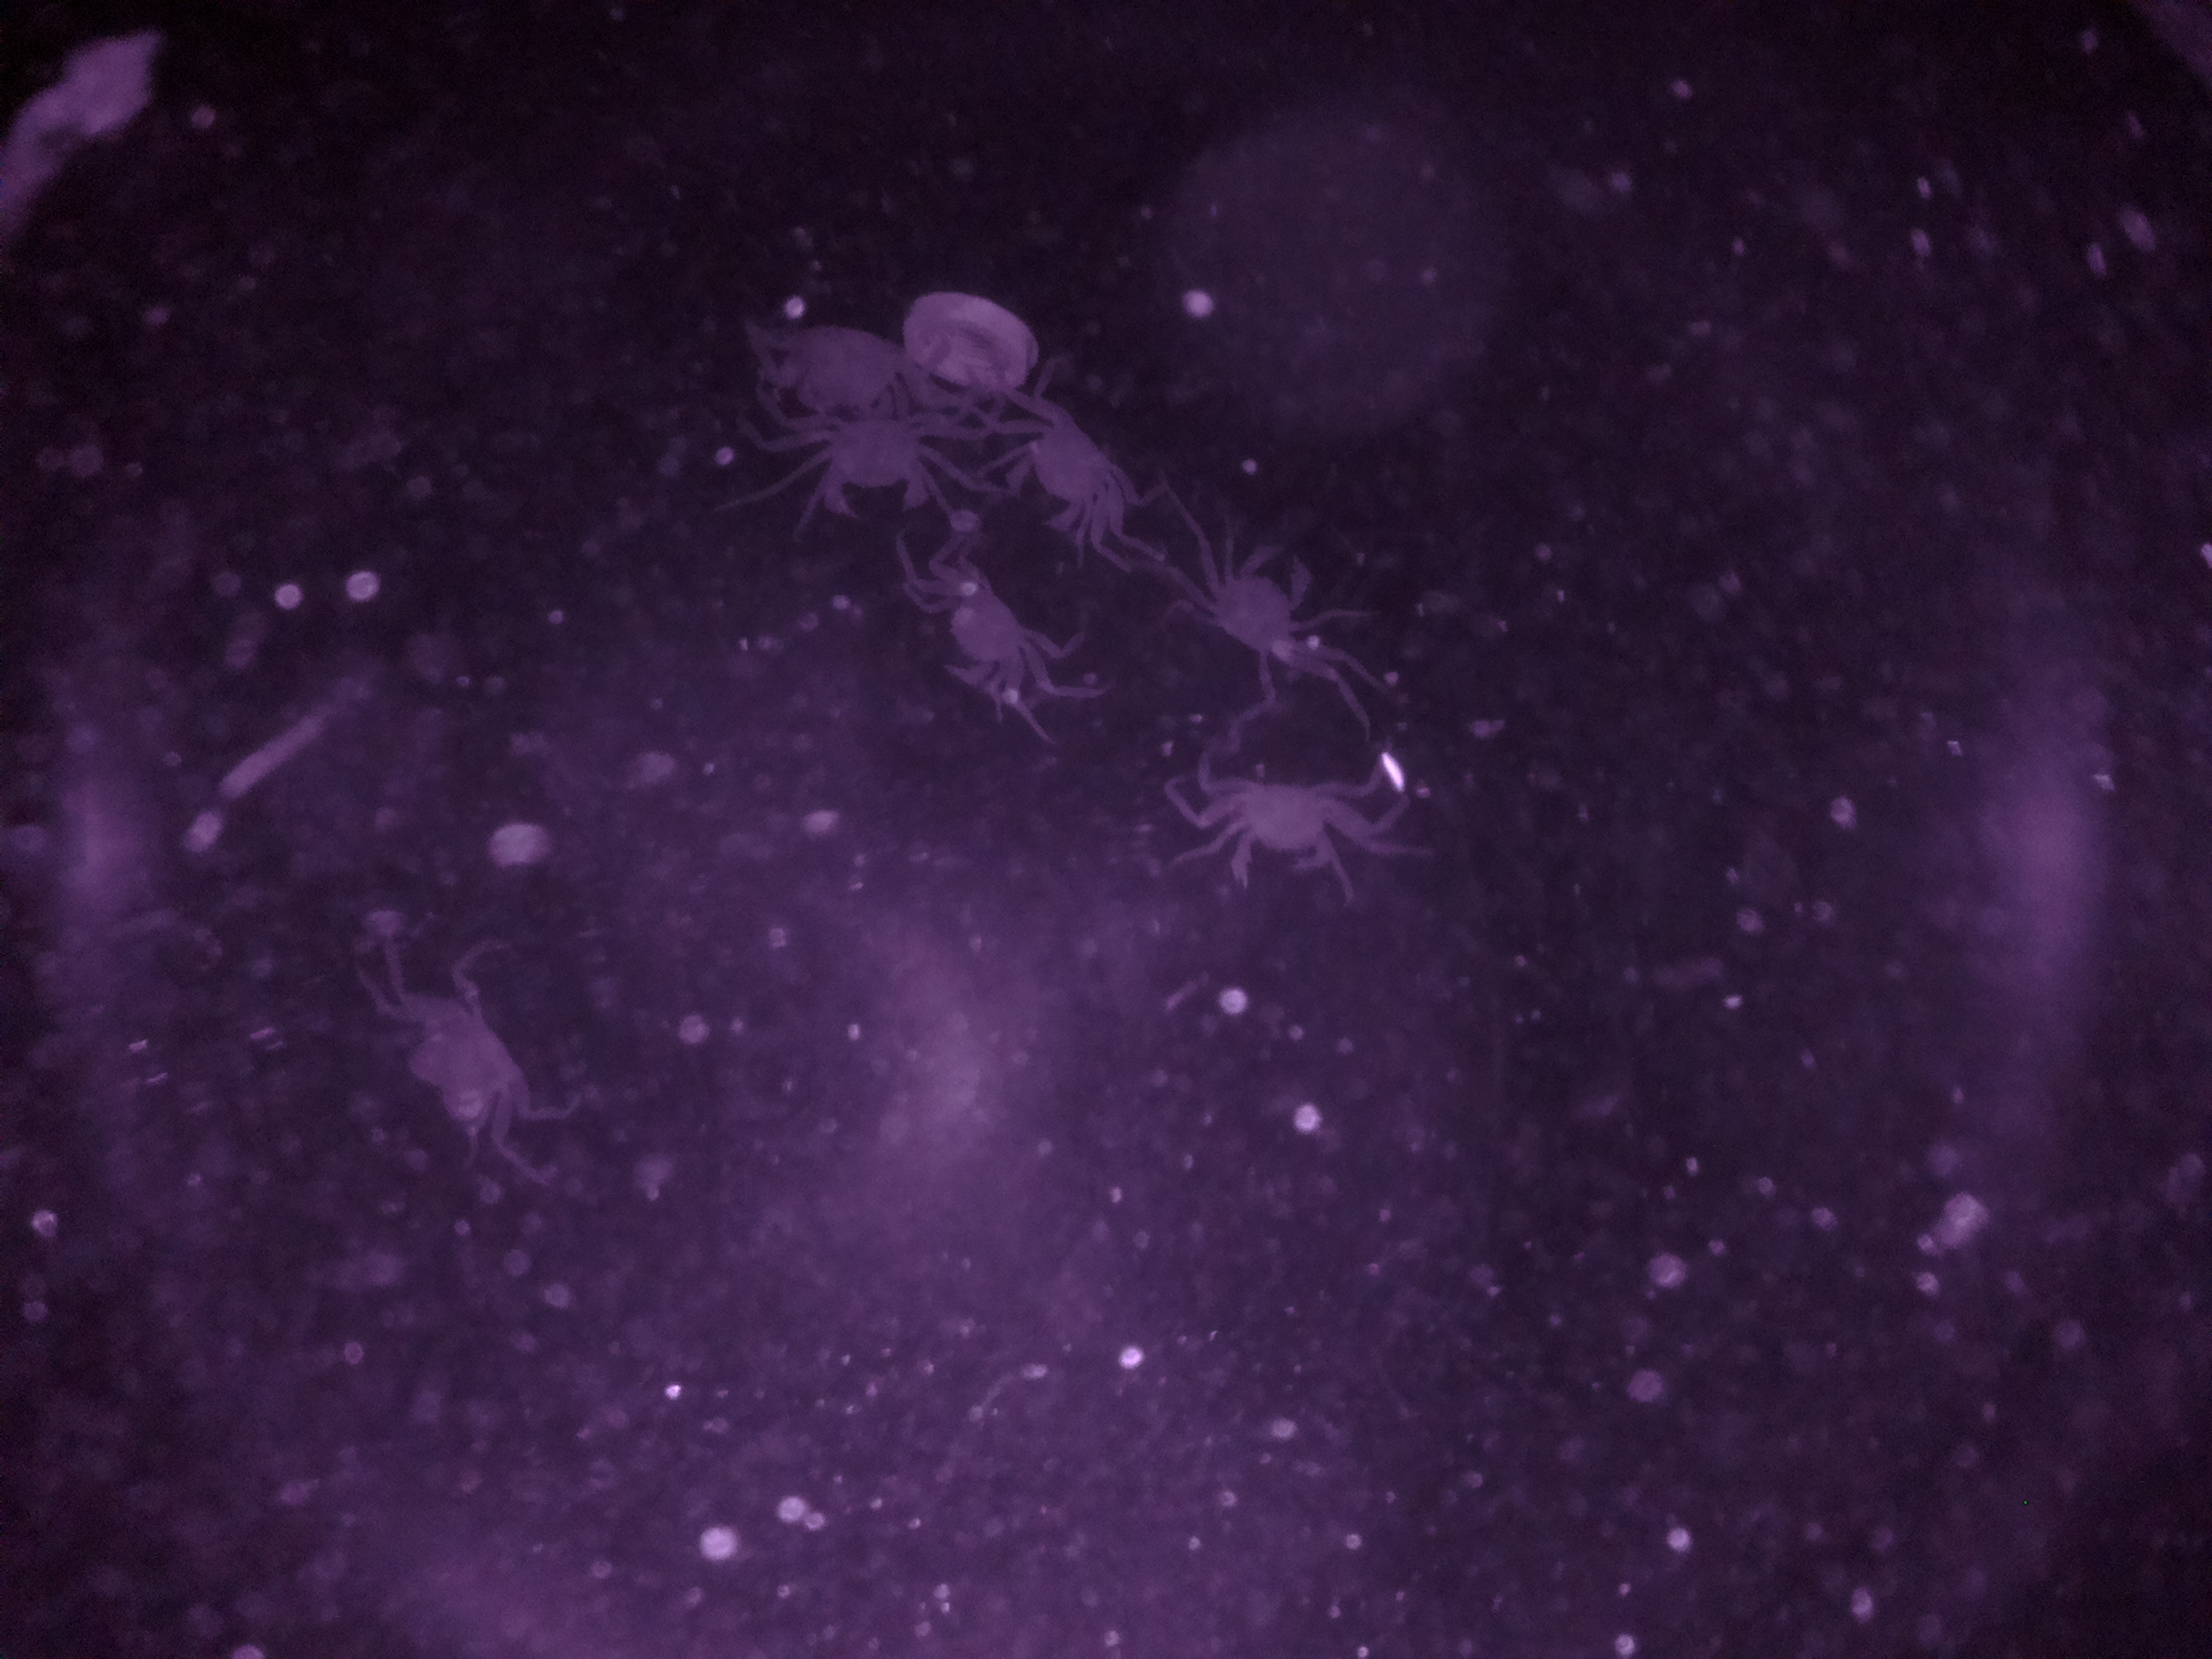Crab: (1153, 505, 1366, 704), (907, 538, 1101, 744), (1170, 753, 1413, 899), (787, 385, 954, 530)
